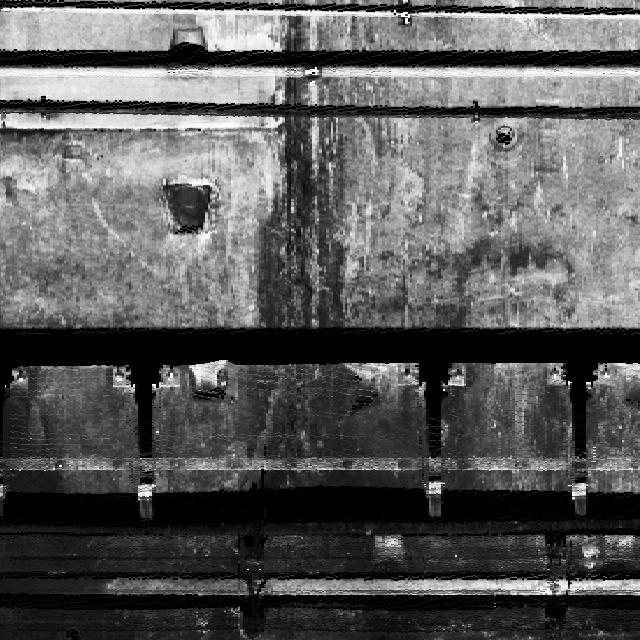leakage: (223, 1, 389, 487)
